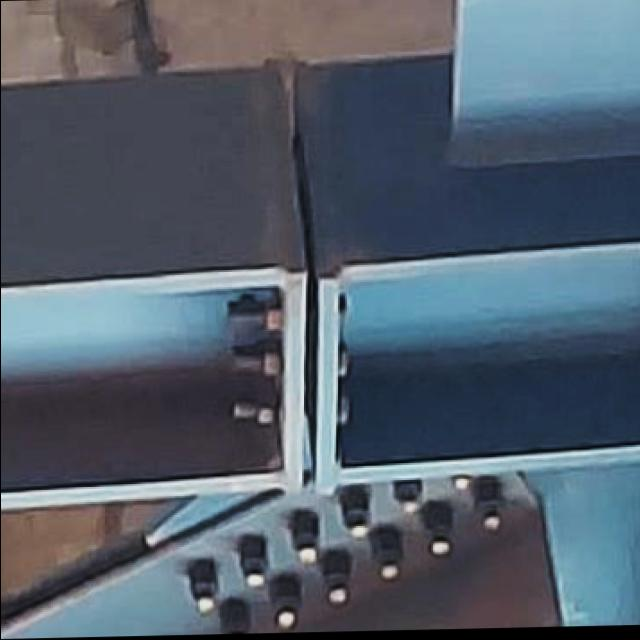Regular bolt: (185, 564, 227, 620), (320, 552, 358, 610), (288, 509, 320, 574), (418, 513, 455, 569), (268, 578, 304, 632), (370, 531, 401, 586), (237, 542, 267, 596), (385, 480, 426, 514), (477, 491, 494, 549)
